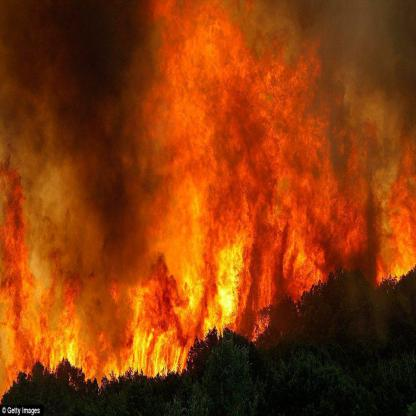fire: (128, 3, 415, 380), (0, 124, 82, 383), (82, 317, 134, 379)
smoke: (77, 86, 142, 291)
